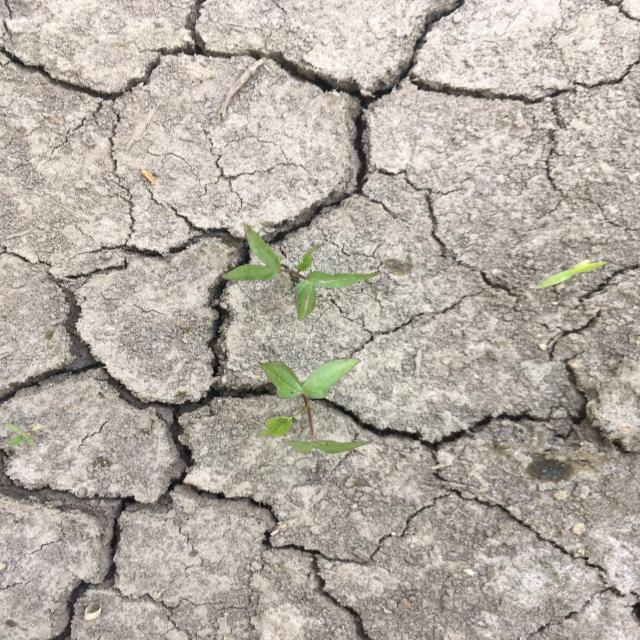MorningGlory: (219, 223, 382, 323), (252, 357, 376, 455)
